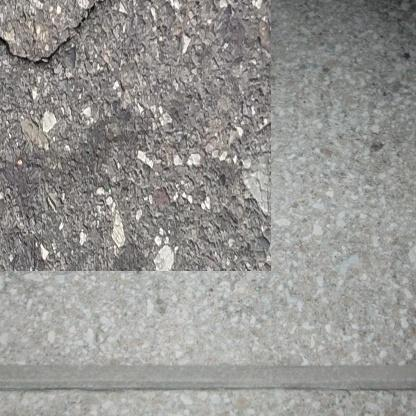Cracks: (0, 0, 119, 68)
